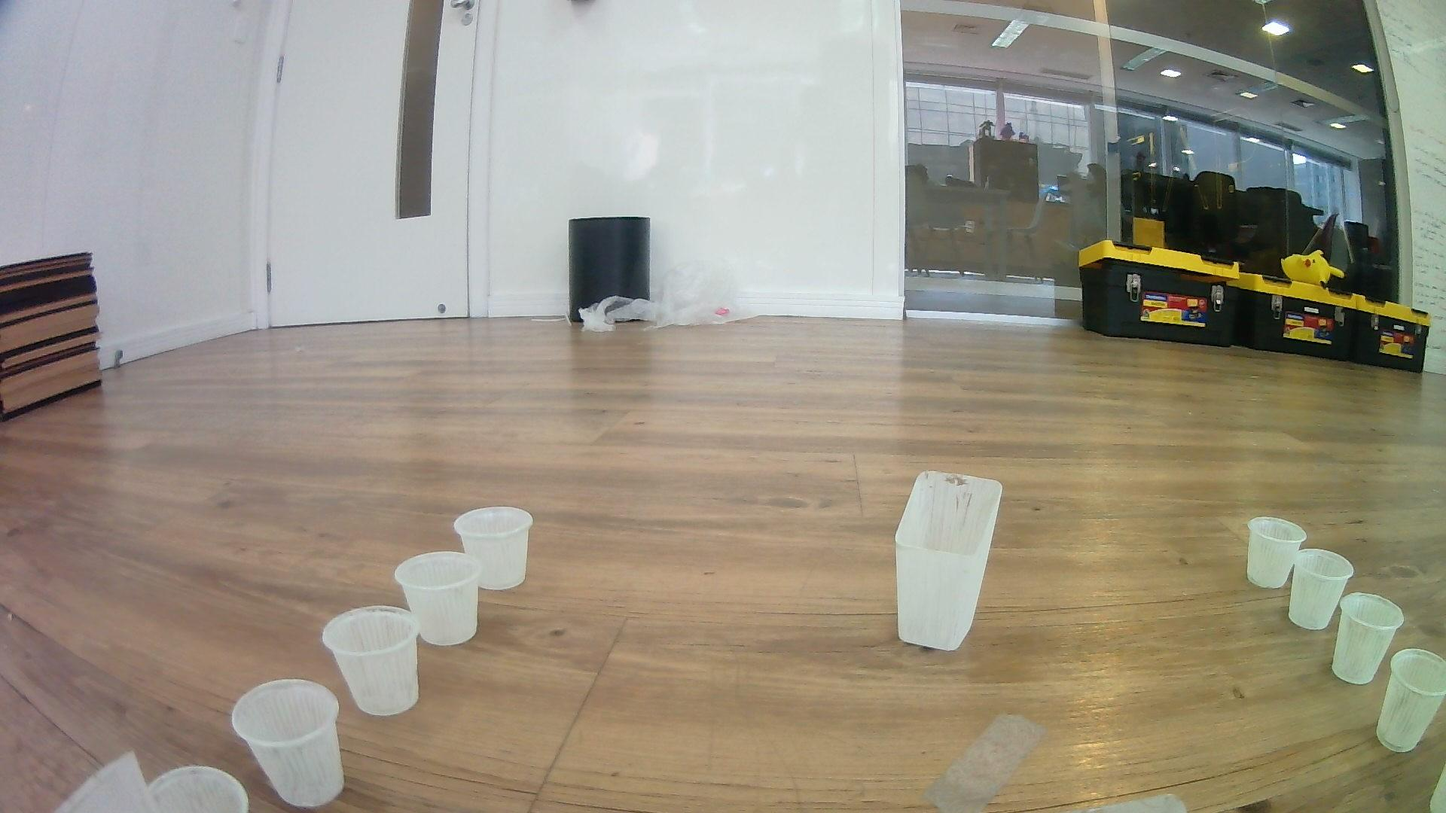erva_daninha: (892, 470, 1004, 653)
planta: (230, 678, 346, 809), (322, 605, 422, 717), (392, 550, 484, 646), (1375, 647, 1446, 753), (453, 505, 535, 591), (1331, 592, 1405, 686), (1288, 547, 1355, 632), (141, 764, 250, 813), (1245, 516, 1308, 590)
